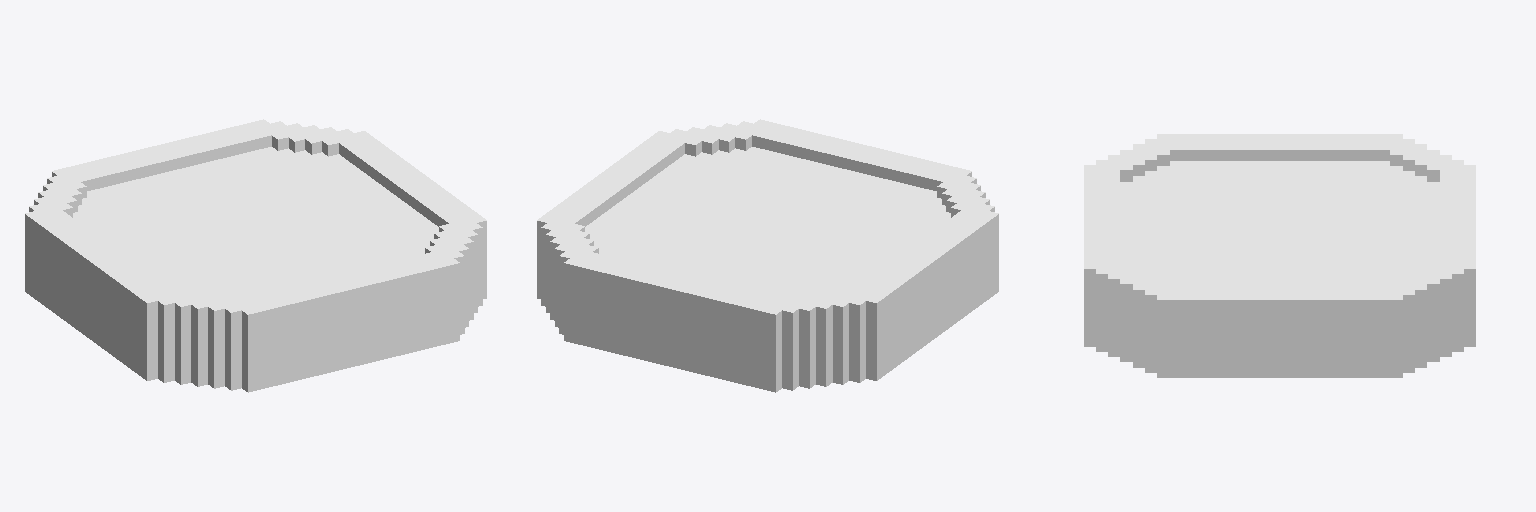
Rendered from pool.obj.
The picture shows the model from 3 angles: view 1: azimuth 30°, elevation 25°; view 2: azimuth 150°, elevation 25°; view 3: azimuth 270°, elevation 25°; orthographic projection.
Visible parts, largest first — view 1: object 1; view 2: object 1; view 3: object 1.
Part boxes in pixels (x1,y1,x2,y2): object 1: (25,119,486,392); object 1: (537,119,998,392); object 1: (1084,134,1475,377).
Size of the model in its own units: 3.2 by 0.7 by 3.2.